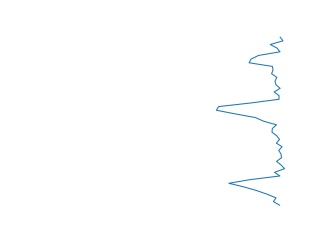underwaterNaturalLevee: (211, 33, 290, 213)
